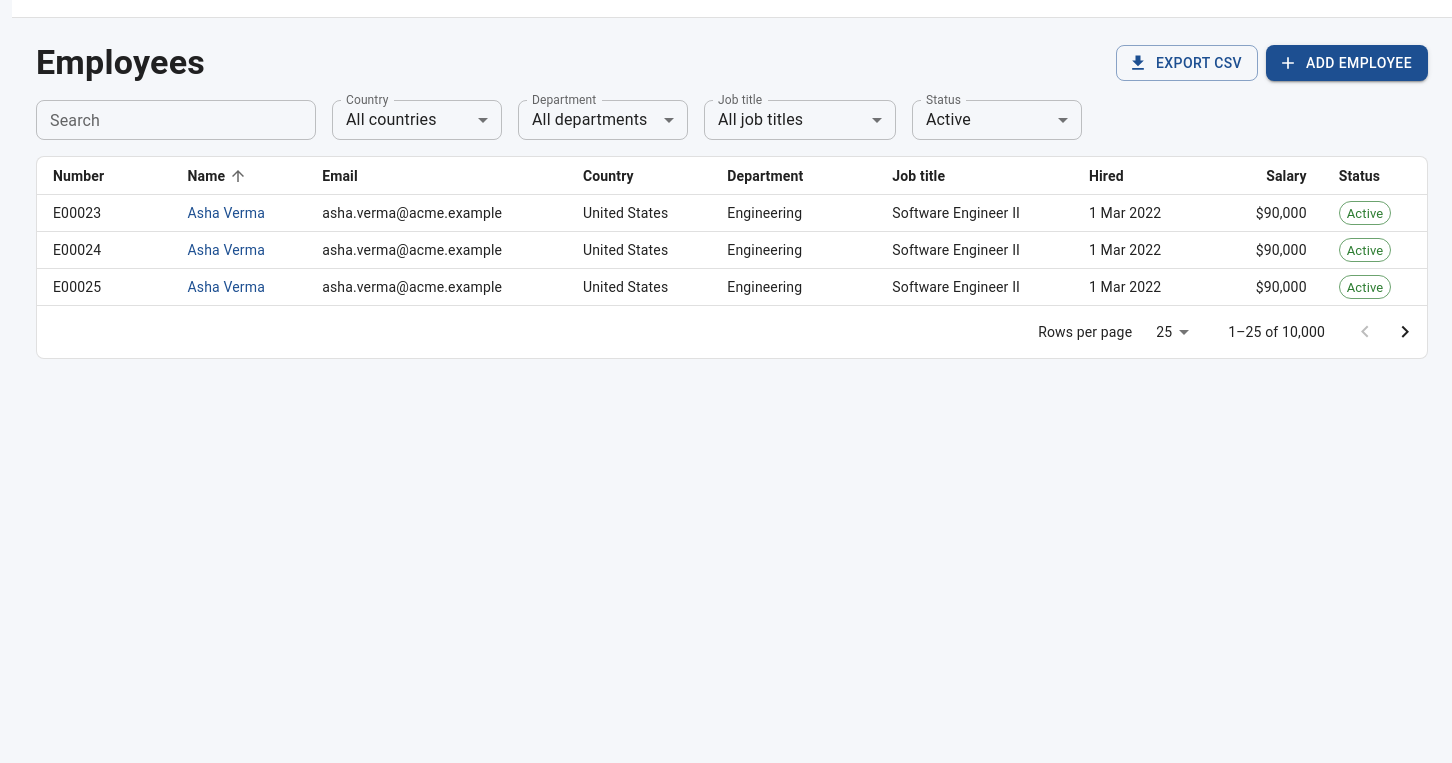
it: the employee directory › sorting › sorts by a column, then reverses on the second click
Click the button "Salary": [1286, 176] box [1266,168,1307,184]
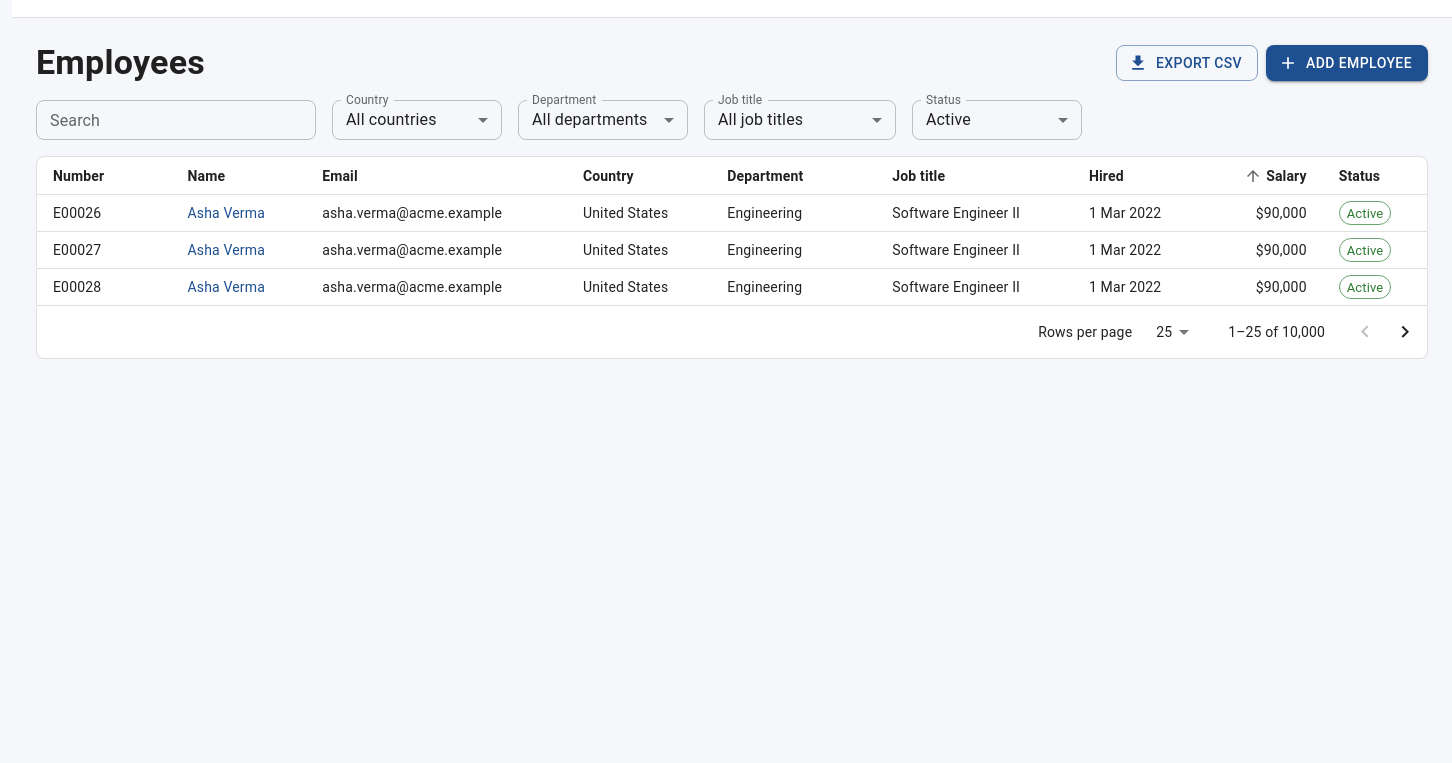
Result: the column heading "Salary" has attribute aria-sort="ascending" at [1201,157,1323,195]
Click the button "Salary": [1273, 176] box [1240,164,1307,188]
(page scrolled)
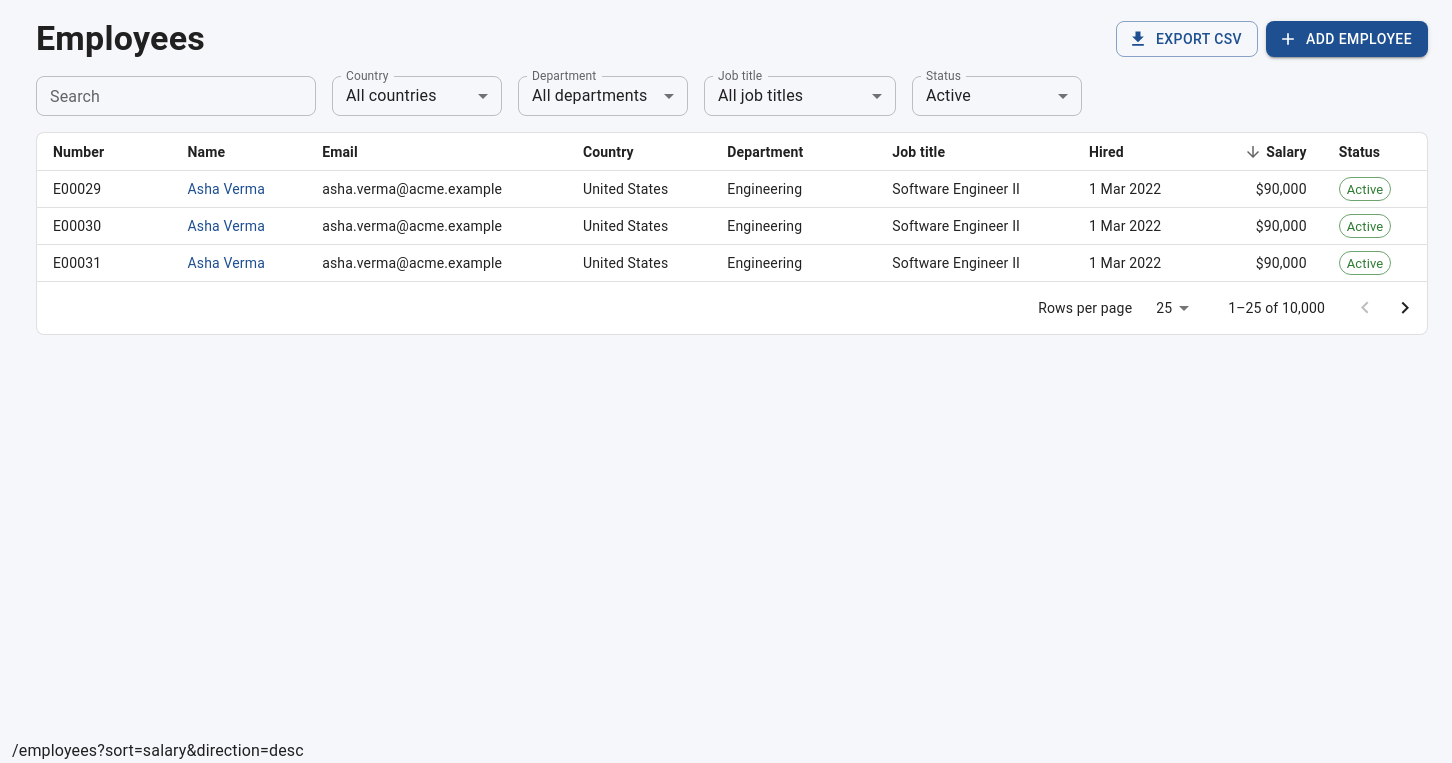
Result: the text with test id "location" reads "/employees?sort=salary&direction=desc" at [12,741,304,760]
